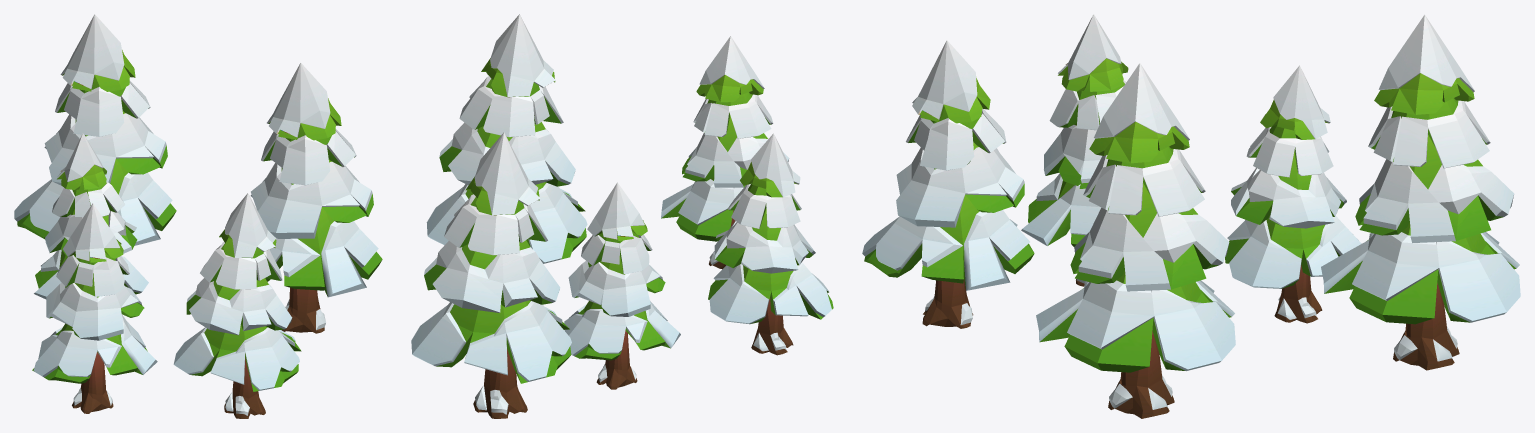
The picture shows the model from 3 angles, left to right: view 1: azimuth 30°, elevation 25°; view 2: azimuth 150°, elevation 25°; view 3: azimuth 270°, elevation 25°; orthographic projection. The views are drawn at different scales.
Parts seen in each view (by area): view 1: SnowyTree (6), SnowyTree (9), SnowyTree (7), SnowyTree (10), SnowyTree (8); view 2: SnowyTree (9), SnowyTree (6), SnowyTree (10), SnowyTree (8), SnowyTree (7); view 3: SnowyTree (9), SnowyTree (6), SnowyTree (7), SnowyTree (8), SnowyTree (10).
Part boxes in pixels (bbox=[...]): SnowyTree (6): bbox=[250, 63, 382, 333]; SnowyTree (9): bbox=[14, 14, 176, 245]; SnowyTree (7): bbox=[173, 193, 301, 418]; SnowyTree (10): bbox=[32, 203, 157, 413]; SnowyTree (8): bbox=[34, 133, 148, 299]; SnowyTree (9): bbox=[411, 132, 571, 418]; SnowyTree (6): bbox=[426, 14, 587, 263]; SnowyTree (10): bbox=[708, 133, 833, 355]; SnowyTree (8): bbox=[564, 182, 680, 389]; SnowyTree (7): bbox=[661, 36, 789, 269]; SnowyTree (9): bbox=[1321, 14, 1520, 370]; SnowyTree (6): bbox=[1036, 63, 1235, 418]; SnowyTree (7): bbox=[862, 40, 1034, 328]; SnowyTree (8): bbox=[1225, 65, 1361, 323]; SnowyTree (10): bbox=[1021, 14, 1128, 286].
Bounding box in the file's own units: 12.62 × 9.49 × 15.87.
Materials: 1 (1 with a texture image).
